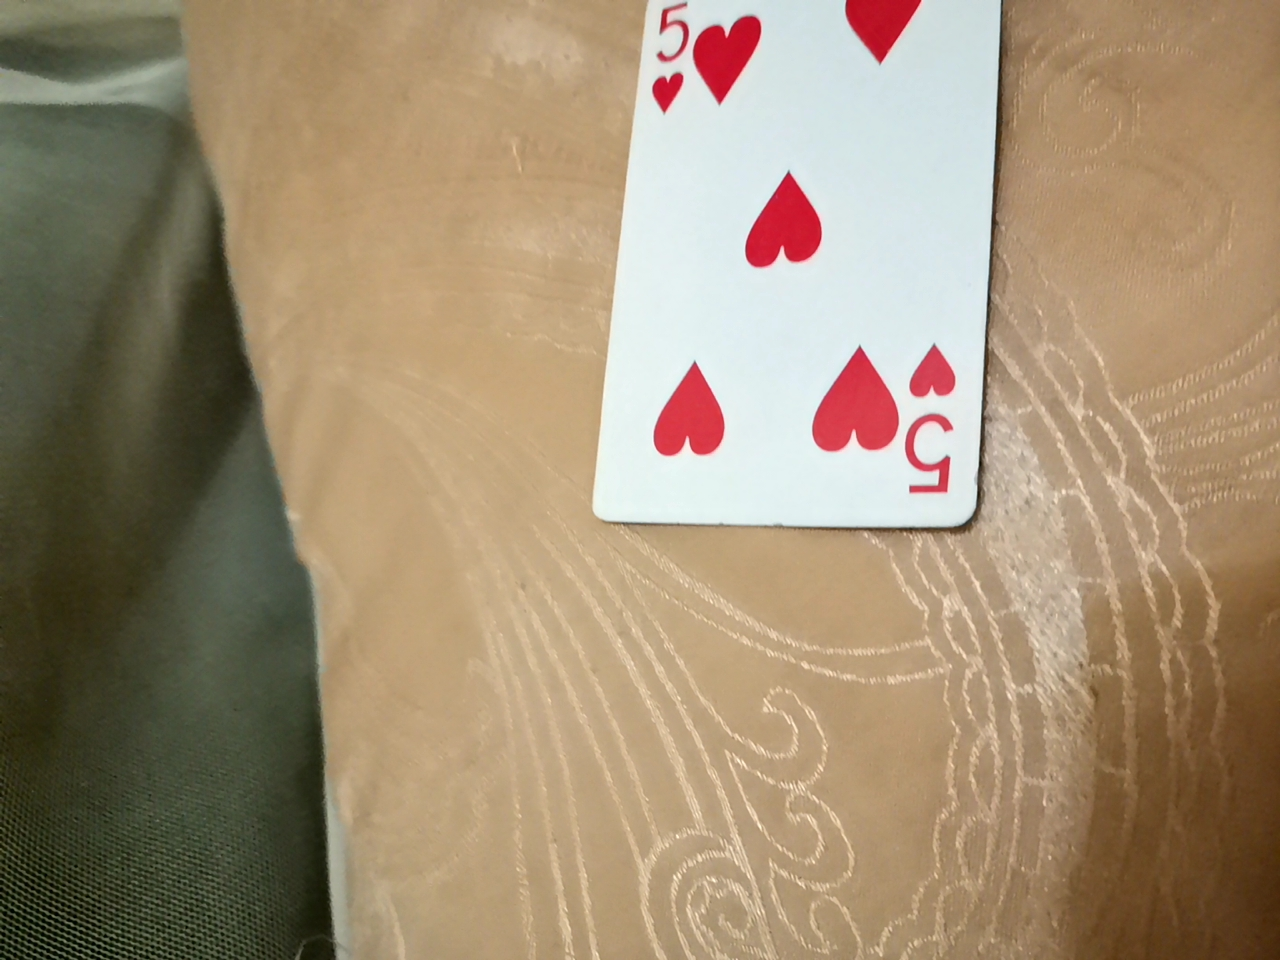hx 5: (597, 0, 1024, 500)
